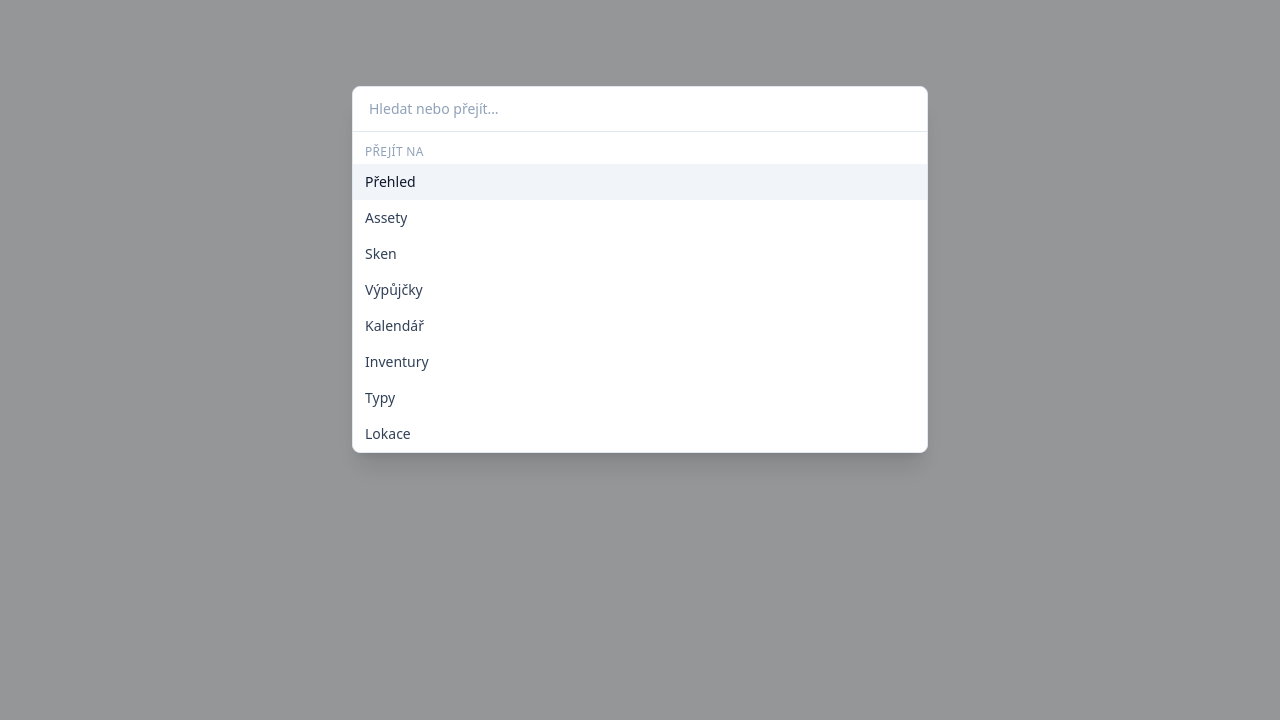
Test case: CommandPalette › filters navigation items by the query
Type "kontakt" into the dropdown at (640, 109), box top-left (353, 87), bottom-right (927, 131)
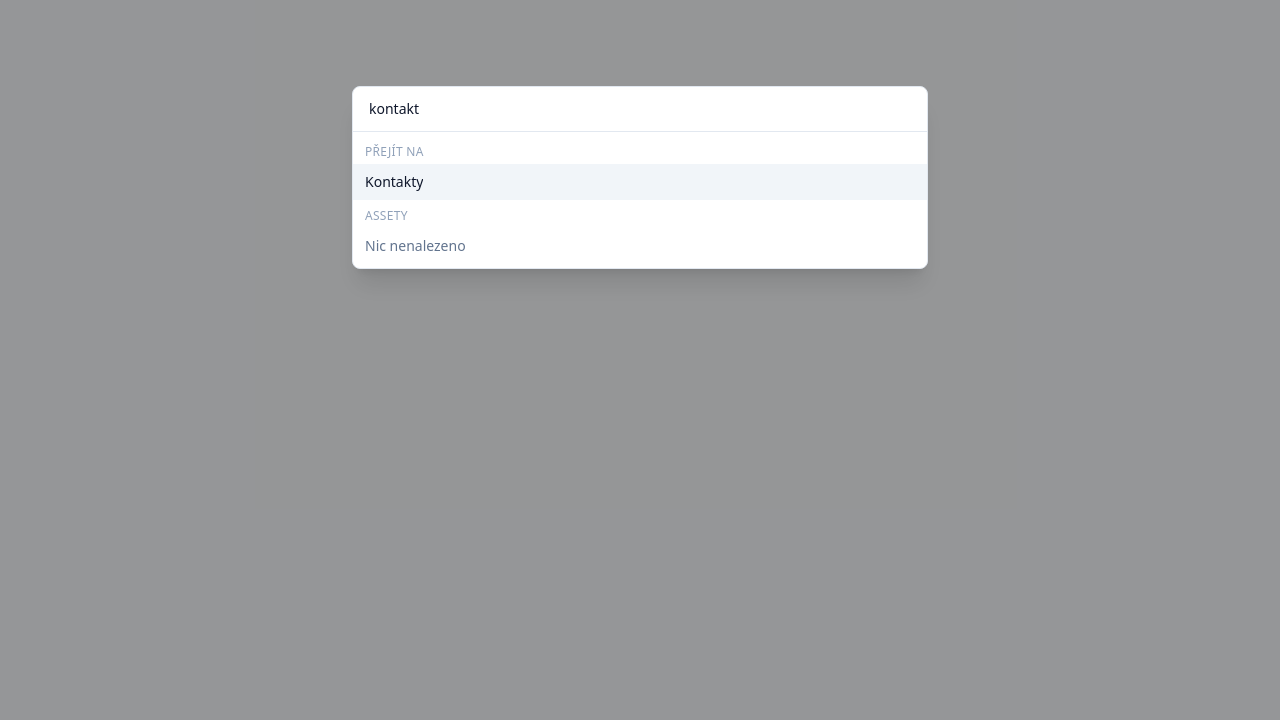
Result: the text "Kontakty" is shown at top-left (365, 172), bottom-right (423, 192)
Result: the option "Přehled" is gone
